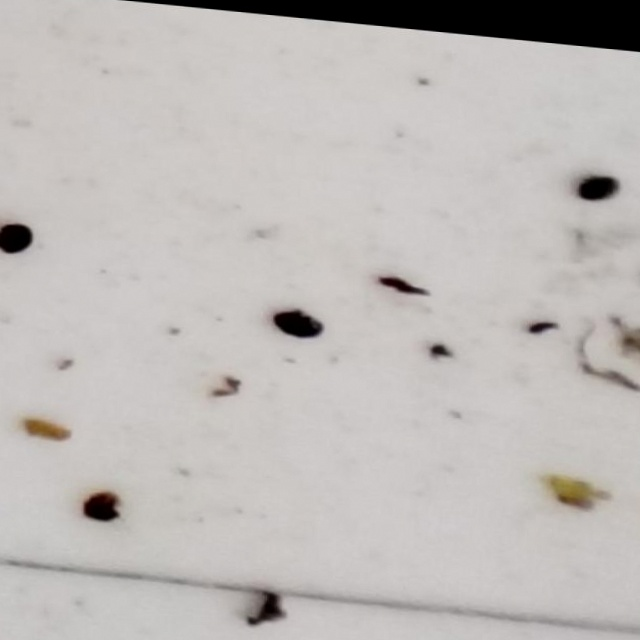varroa: (269, 302, 327, 338), (576, 162, 619, 197)
